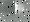person: (17, 1, 24, 15)
